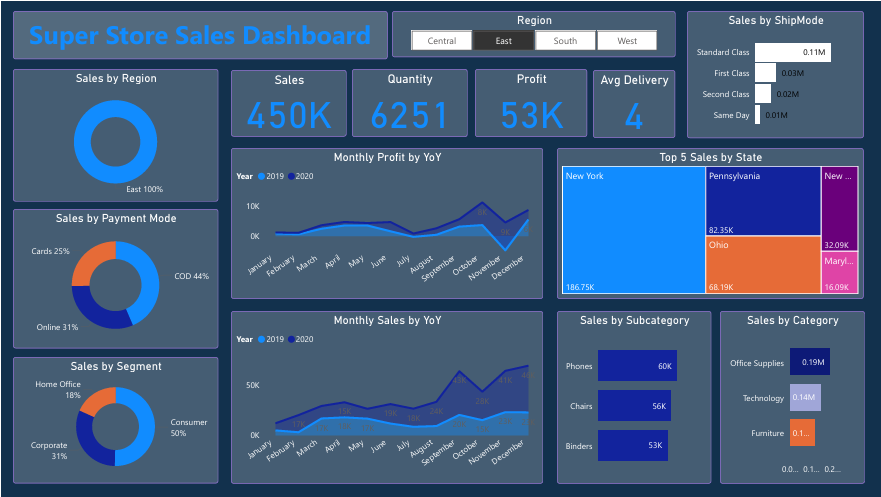

This screenshot's page, from the dashboard's own definition file:
{"tool":"powerbi","page":{"name":"Dashboard","canvas":[1280,720],"ordinal":0},"visuals":[{"type":"clusteredBarChart","title":"Sales by Subcategory","fields":{"Category":["Sheet1.Sub-Category"],"Y":["Sum(Sheet1.Sales)"]},"box":[815.9,454,227,254],"z":0},{"type":"clusteredBarChart","title":"Sales by Category","fields":{"Category":["Sheet1.Category"],"Y":["Sum(Sheet1.Sales)"]},"box":[1055.6,454,212.7,254],"z":1000},{"type":"clusteredBarChart","title":"Sales by ShipMode","fields":{"Category":["Sheet1.Ship Mode"],"Y":["Sum(Sheet1.Sales)"]},"box":[1007.9,12.7,260.3,187.3],"z":2000},{"type":"stackedAreaChart","title":"Monthly Sales by YoY","fields":{"Y":["Sum(Sheet1.Sales)"],"Category":["Sheet1.Order Date.Variation.Date Hierarchy.Month"],"Series":["Sheet1.Order Date.Variation.Date Hierarchy.Year"]},"box":[336.5,454,458.7,254],"z":3000},{"type":"stackedAreaChart","title":"Monthly Profit by YoY","fields":{"Category":["Sheet1.Order Date.Variation.Date Hierarchy.Month"],"Series":["Sheet1.Order Date.Variation.Date Hierarchy.Year"],"Y":["Sum(Sheet1.Profit)"]},"box":[336.5,214.3,458.7,222.2],"z":4000},{"type":"donutChart","title":"Sales by Segment","fields":{"Category":["Sheet1.Segment"],"Y":["Sum(Sheet1.Sales)"]},"box":[15.9,522.2,301.6,185.7],"z":5000},{"type":"donutChart","title":"Sales by Region","fields":{"Category":["Sheet1.Region"],"Y":["Sum(Sheet1.Sales)"]},"box":[15.9,98.4,301.6,195.2],"z":6000},{"type":"donutChart","title":"Sales by Payment Mode","fields":{"Category":["Sheet1.Payment Mode"],"Y":["Sum(Sheet1.Sales)"]},"box":[15.9,304.8,301.6,204.8],"z":7000},{"type":"slicer","title":"Region","fields":{"Values":["Sheet1.Region"]},"box":[573,12.7,417.5,68.3],"z":8000},{"type":"textbox","box":[15.9,12.7,550.8,71.4],"z":9000},{"type":"card","title":"Sales","fields":{"Values":["Sum(Sheet1.Sales)"]},"box":[336.5,100,169.8,98.4],"z":10000},{"type":"card","title":"Quantity","fields":{"Values":["Sum(Sheet1.Quantity)"]},"box":[514.3,98.4,169.8,100],"z":11000},{"type":"card","title":"Profit","fields":{"Values":["Sum(Sheet1.Profit)"]},"box":[695.2,98.4,165.1,100],"z":12000},{"type":"card","title":"Avg Delivery","fields":{"Values":["Avg(Sheet1.AvgDelivery)"]},"box":[869.8,100,120.6,100],"z":13000},{"type":"treemap","title":"Top 5 Sales by State","fields":{"Group":["Sheet1.State"],"Values":["Sum(Sheet1.Sales)"]},"box":[815.9,214.3,450.8,222.2],"z":14000}]}

Visuals, with their boxes in screenshot pixels (x1, y1, x2, y2), scaled from the page's 1280x720 canvas onto the 881x497 screenshot:
"Sales by Subcategory" clusteredBarChart: 562,313,718,489
"Sales by Category" clusteredBarChart: 727,313,873,489
"Sales by ShipMode" clusteredBarChart: 694,9,873,138
"Monthly Sales by YoY" stackedAreaChart: 232,313,547,489
"Monthly Profit by YoY" stackedAreaChart: 232,148,547,301
"Sales by Segment" donutChart: 11,360,219,489
"Sales by Region" donutChart: 11,68,219,203
"Sales by Payment Mode" donutChart: 11,210,219,352
"Region" slicer: 394,9,682,56
textbox: 11,9,390,58
"Sales" card: 232,69,348,137
"Quantity" card: 354,68,471,137
"Profit" card: 478,68,592,137
"Avg Delivery" card: 599,69,682,138
"Top 5 Sales by State" treemap: 562,148,872,301
